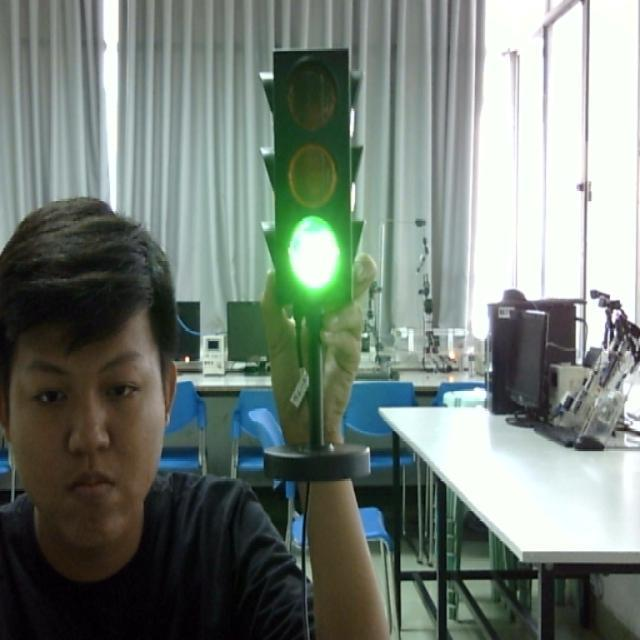green_light: (263, 48, 365, 324)
